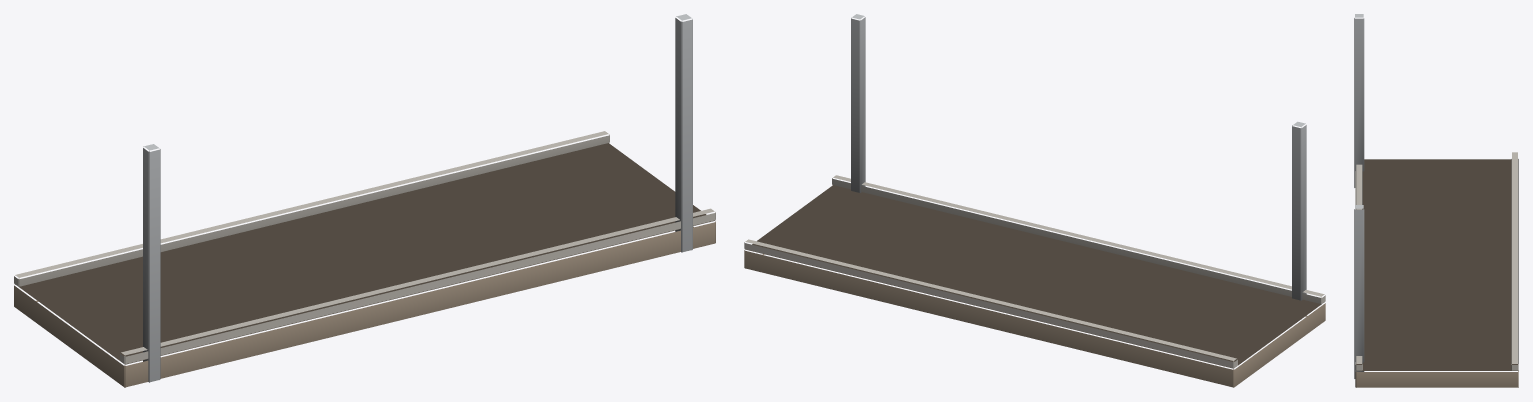
The model's file is pontoon.glb.
The picture shows the model from 3 angles, left to right: view 1: azimuth 30°, elevation 25°; view 2: azimuth 150°, elevation 25°; view 3: azimuth 270°, elevation 25°; orthographic projection. The views are drawn at different scales.
Parts seen in each view (by area): view 1: props_pontoon; view 2: props_pontoon; view 3: props_pontoon.
Part boxes in pixels (left/top/right/bottom): props_pontoon: left=14, top=14, right=715, bottom=387; props_pontoon: left=744, top=14, right=1325, bottom=387; props_pontoon: left=1354, top=14, right=1518, bottom=387.
Bounding box in the file's own units: 8 × 3 × 2.62.
